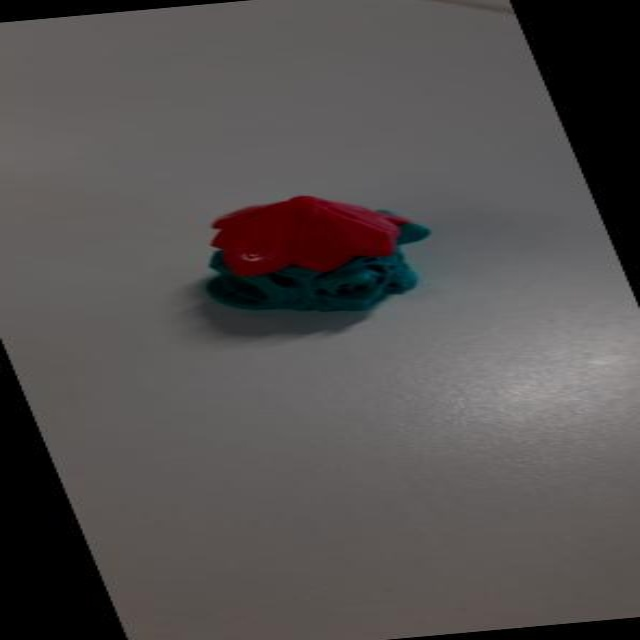House: (154, 184, 456, 326)
